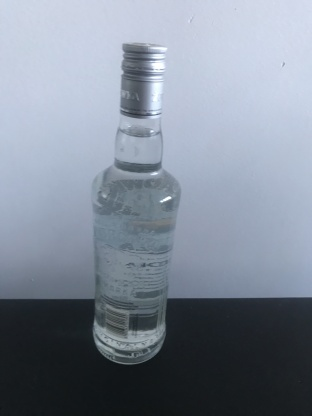nakretka: (118, 40, 168, 119)
